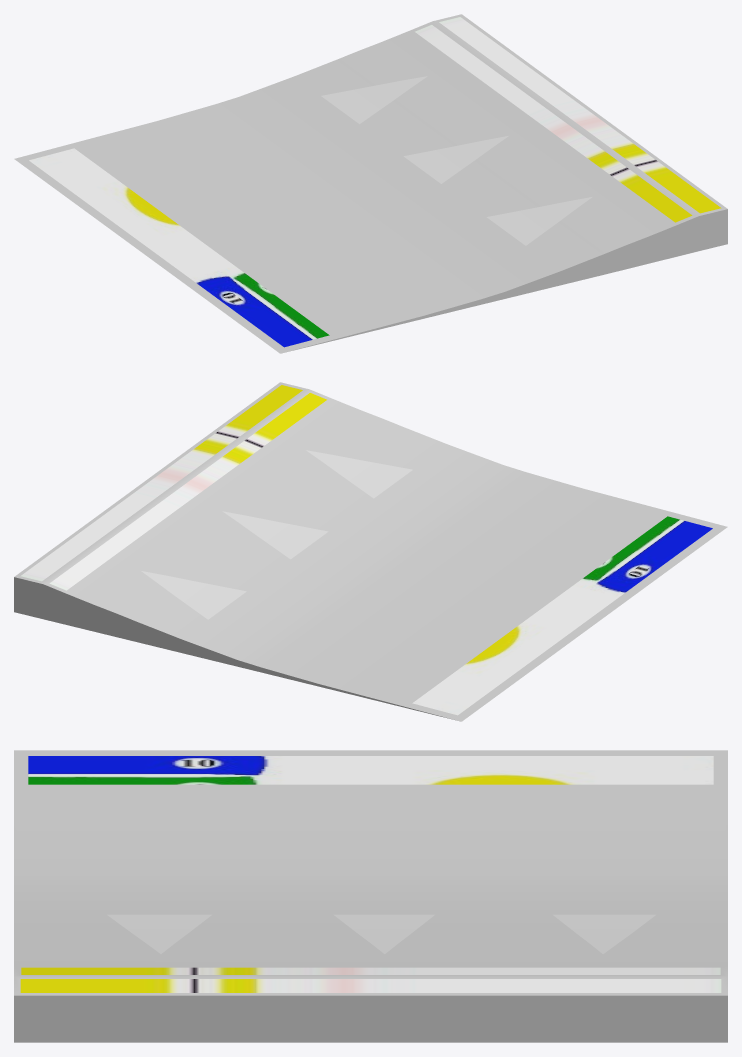
The model's file is Springboard_02.fbx.
3 views of the same model, one above another, from view 1: azimuth 30°, elevation 25°; view 2: azimuth 150°, elevation 25°; view 3: azimuth 270°, elevation 25° (orthographic). The views are drawn at different scales.
Parts seen in each view (by area): view 1: Cube.017; view 2: Cube.017; view 3: Cube.017.
Part boxes in pixels (x1,y1,x2,y2): Cube.017: [14, 14, 727, 353]; Cube.017: [14, 382, 727, 721]; Cube.017: [14, 750, 727, 1042].
Bounding box in the file's own units: 97.09 × 7.35 × 100.
